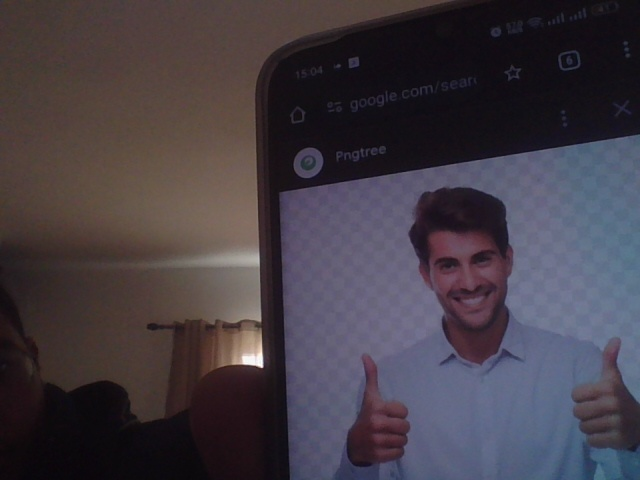fake: (409, 174, 527, 342)
